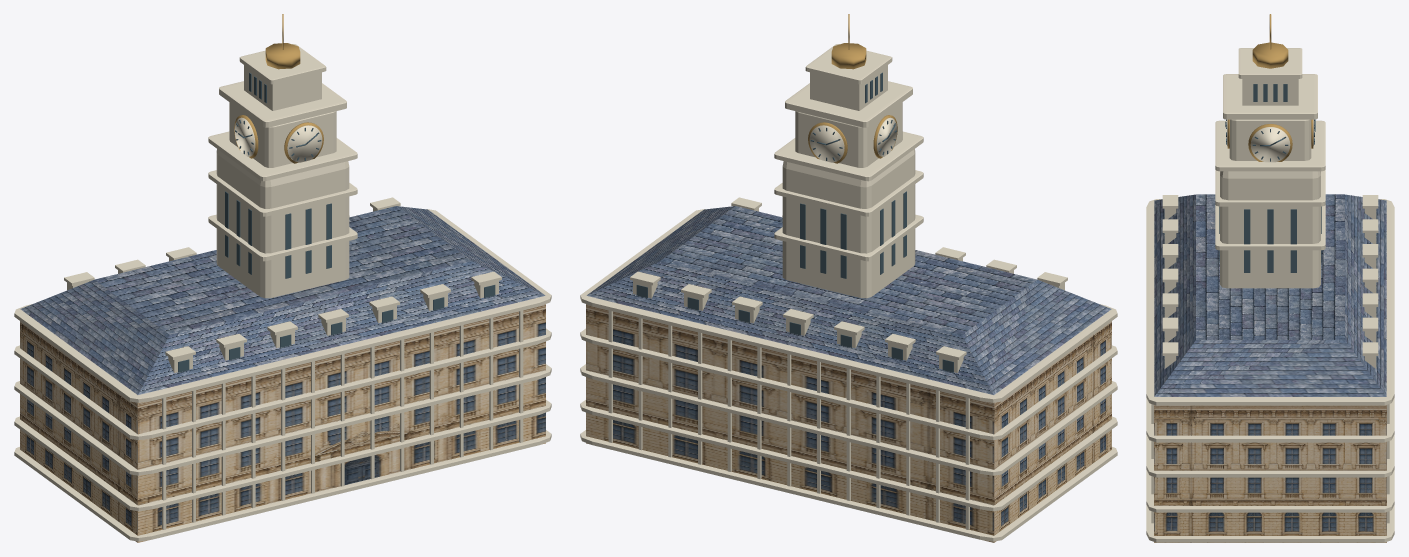
Rendered from customs-lod0.glb.
3 views of the same model, side by side, from view 1: azimuth 30°, elevation 25°; view 2: azimuth 150°, elevation 25°; view 3: azimuth 270°, elevation 25° (orthographic).
Visible parts, largest first — view 1: customs_architecture; view 2: customs_architecture; view 3: customs_architecture.
Boxes of the visible parts, left/top/right/bottom form: customs_architecture: left=14, top=14, right=551, bottom=542; customs_architecture: left=580, top=14, right=1117, bottom=542; customs_architecture: left=1146, top=14, right=1394, bottom=542.
Size of the model in its own units: 24.8 by 24.5 by 12.8.
Materials: 6 (3 with a texture image).
